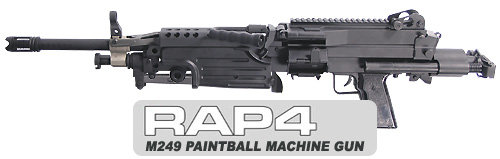rifle: (2, 13, 485, 140)
